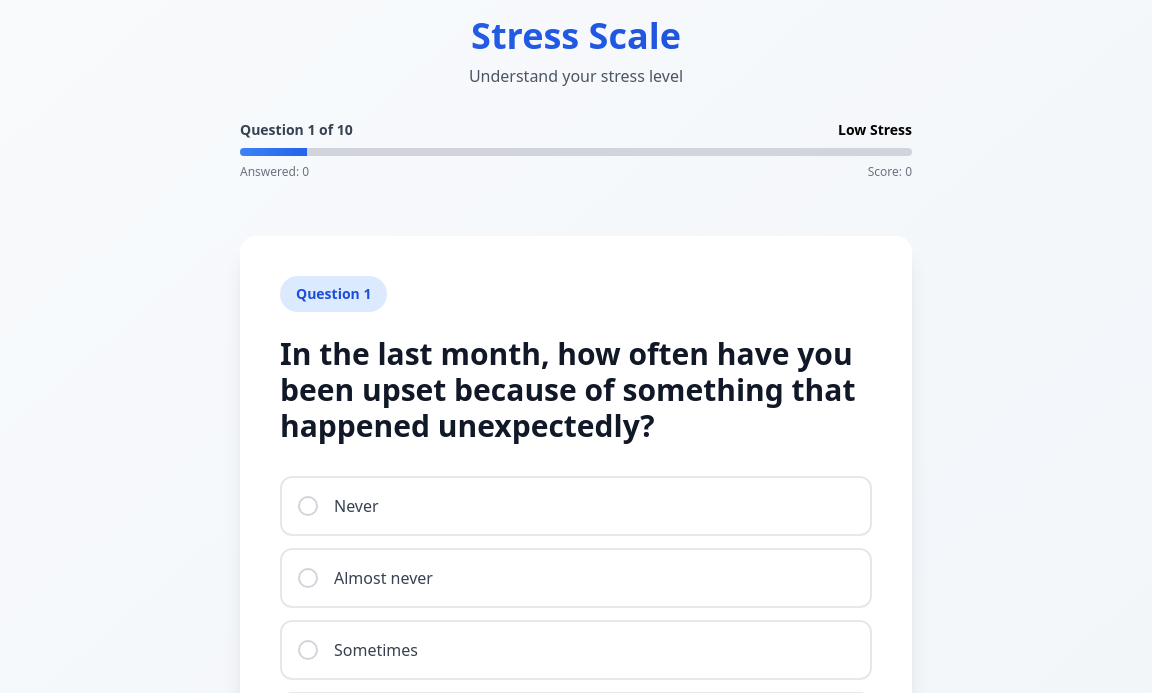
Test case: PssForm › enables moving forward after selecting an answer
The width and height of the screenshot is (1152, 693).
What coordinates should you click on to do the following:
click the button "Sometimes"
I would click on:
 (376, 650)
Its box is [280, 620, 872, 680].
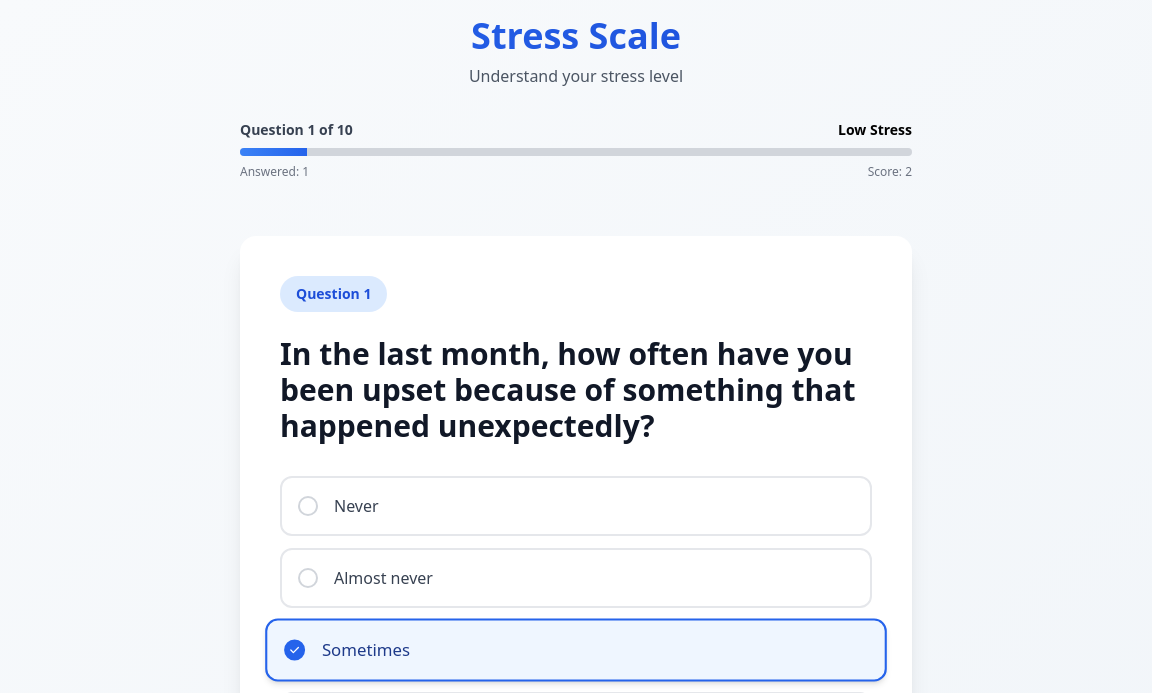
Expected: the text "Answered: 1" is shown, [240, 164, 309, 180]
Expected: the text "Score: 2" is shown, [868, 164, 912, 180]
